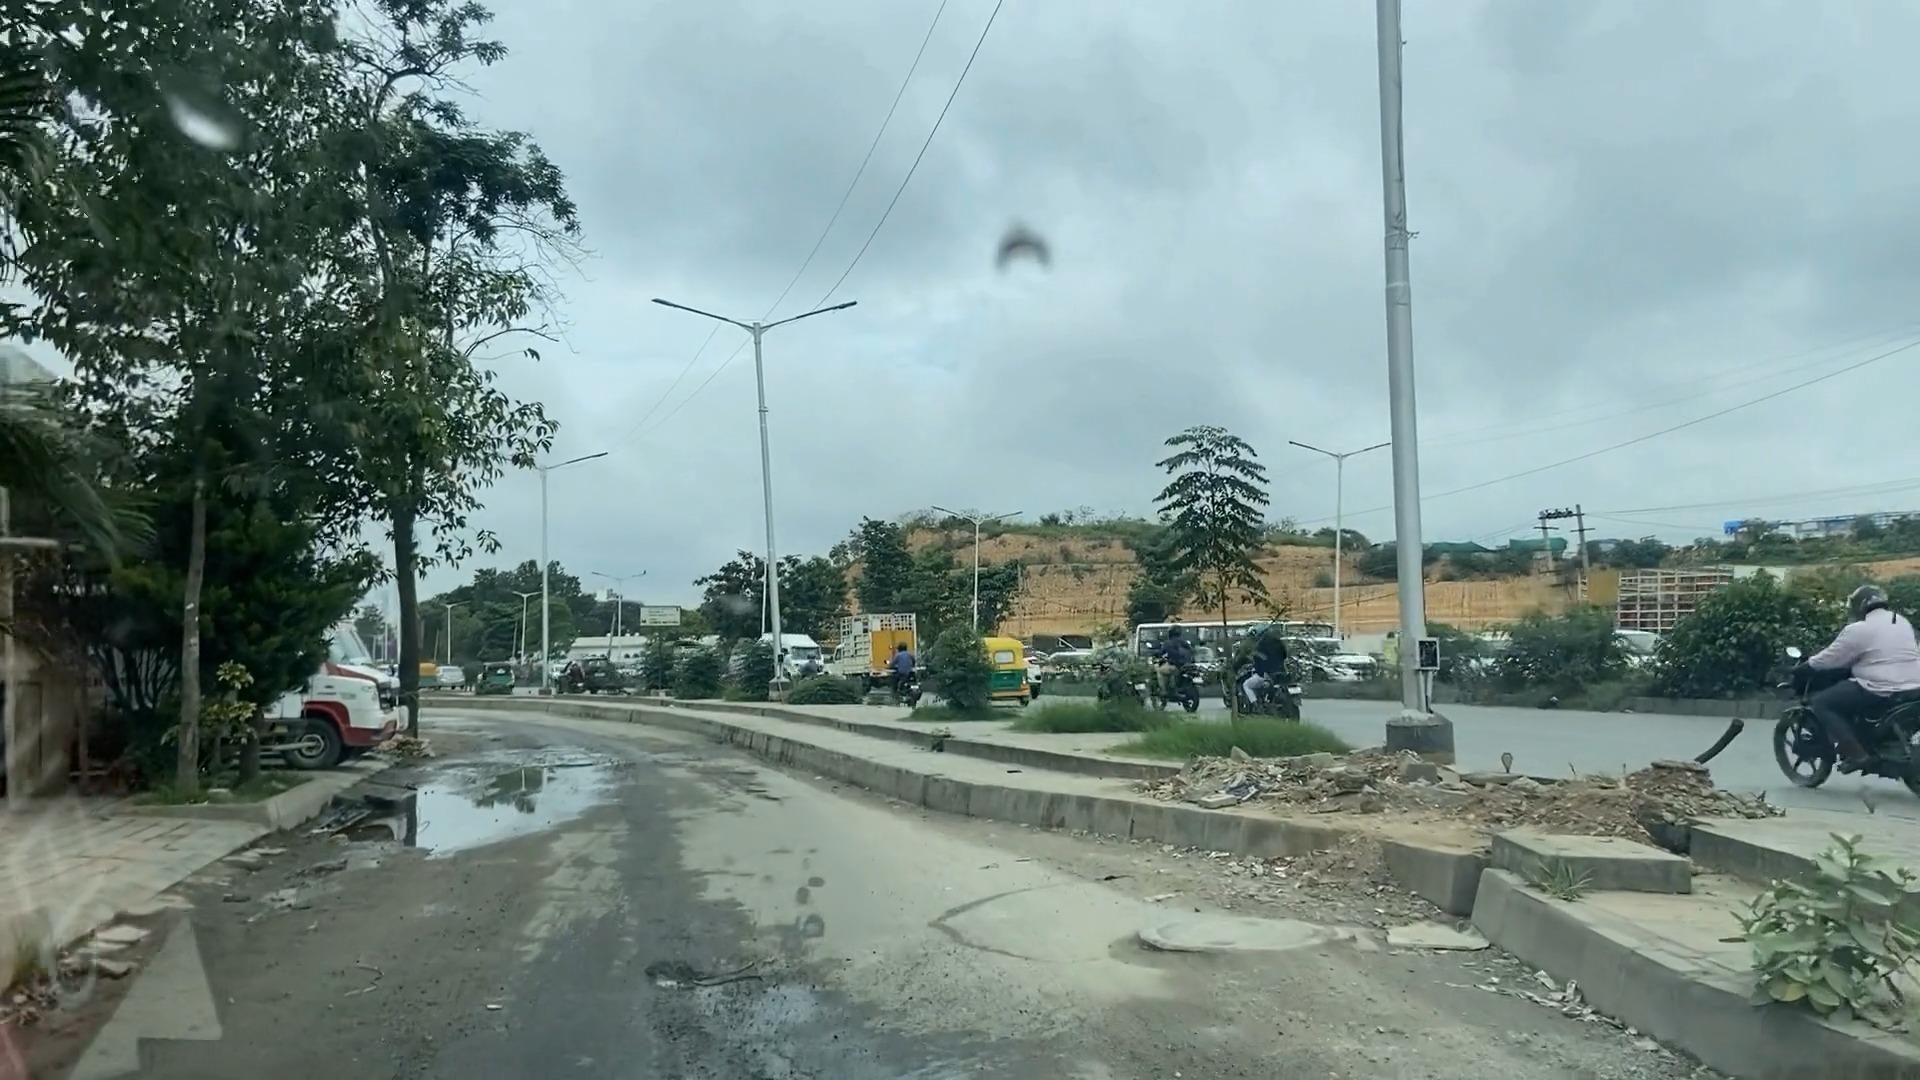RoadDamages: (637, 947, 918, 1080), (1110, 914, 1424, 989)
